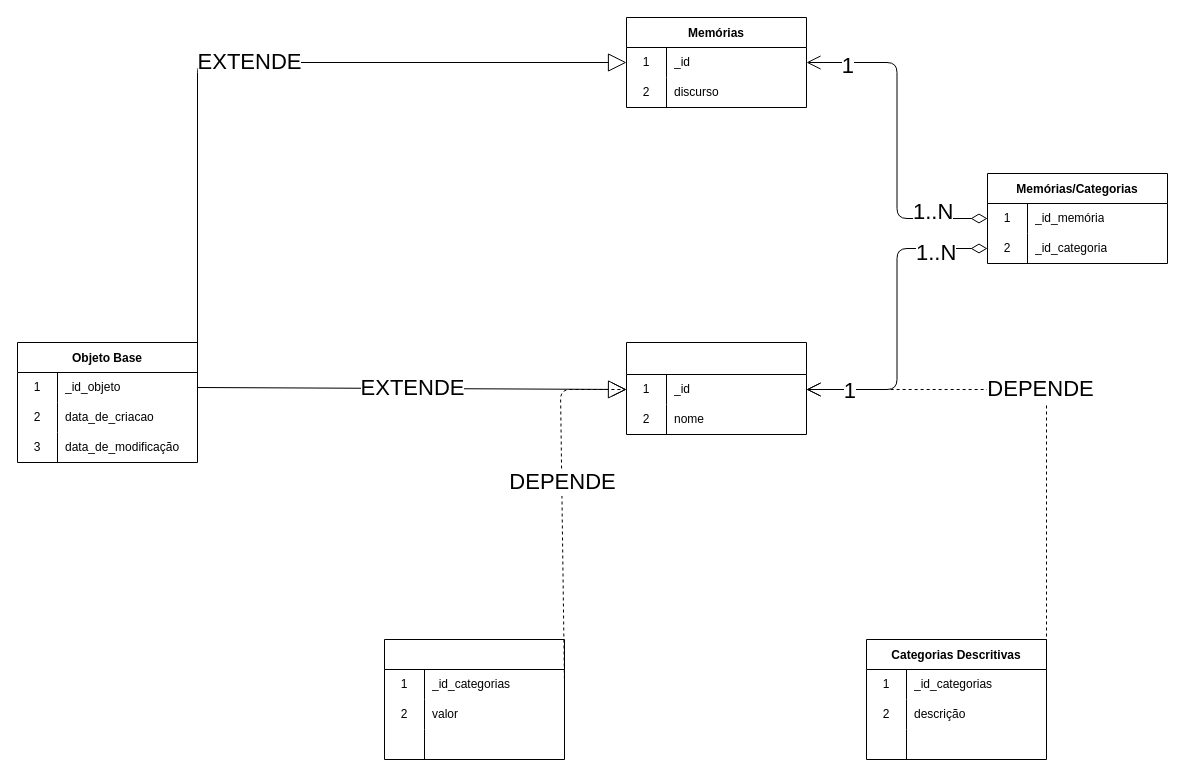
The diagram is 1185 pixels wide and 777 high, and some of its shapes have lost their labels. The shapes that lost their labels are listed below. From the top down, each one's box as (x1, y1, x2, y2) in pixels, then its label:
(626, 342, 806, 434): Categorias
(384, 638, 564, 760): Categorias Valoradas
